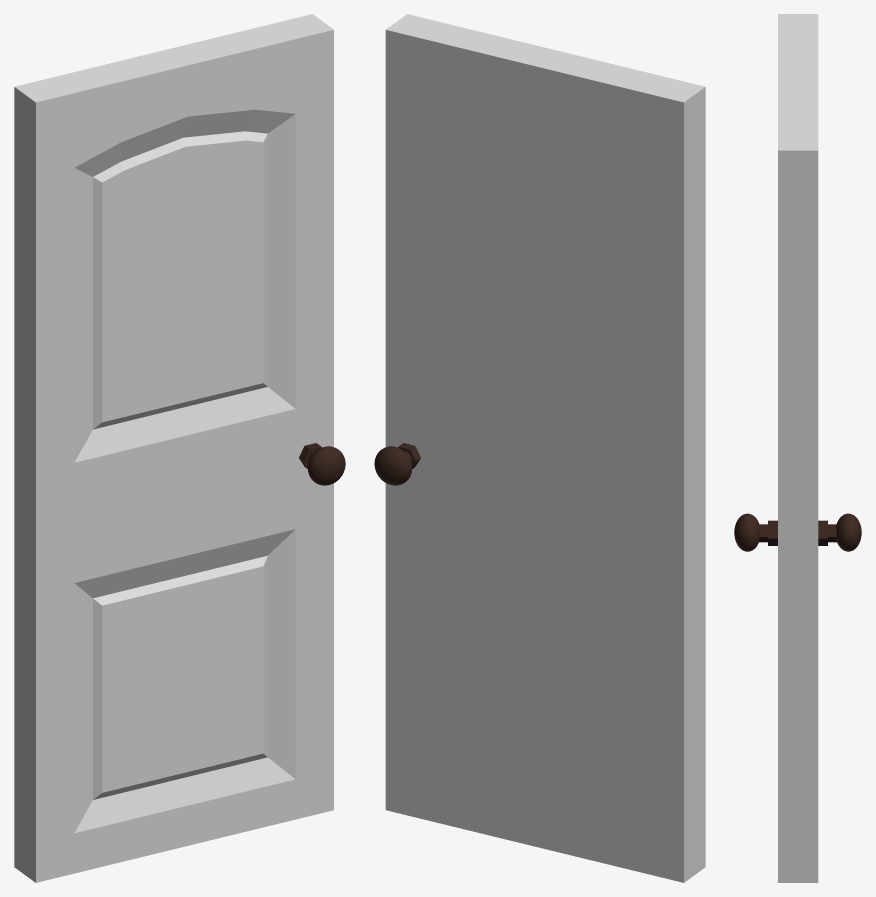
File: Door.FBX
The picture shows the model from 3 angles, left to right: view 1: azimuth 30°, elevation 25°; view 2: azimuth 150°, elevation 25°; view 3: azimuth 270°, elevation 25°; orthographic projection. The views are drawn at different scales.
Parts seen in each view (by area): view 1: Door; view 2: Door; view 3: Door.
Boxes of the visible parts, x1,y1,x2,y2 form: Door: [14, 14, 345, 882]; Door: [374, 14, 705, 882]; Door: [734, 14, 861, 882].
Bounding box in the file's own units: 80 × 200 × 31.54.
